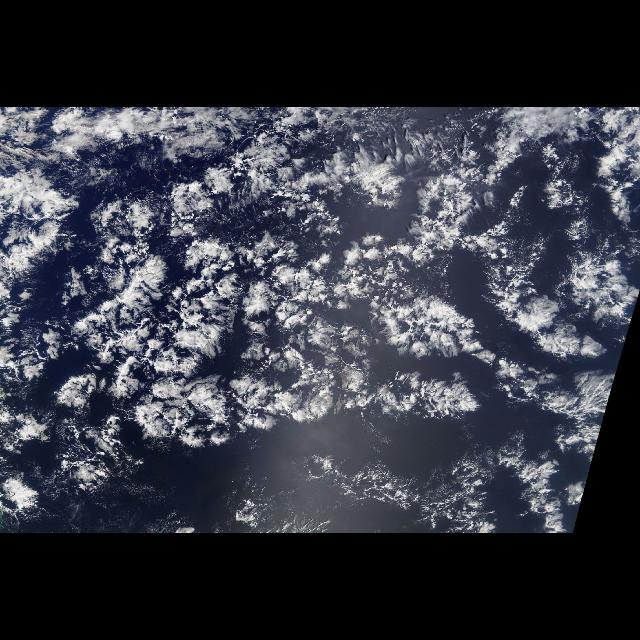Flower: (68, 167, 580, 465)
